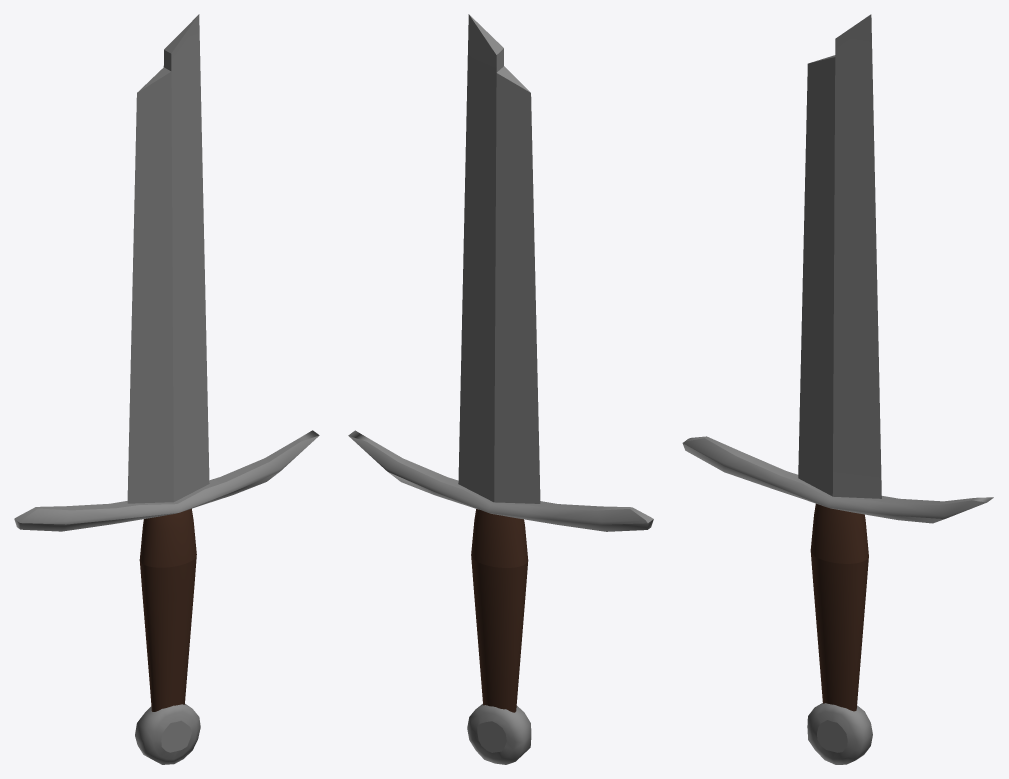
Rendered from broken_sword.gltf.
3 renders of one model, left to right at view 1: azimuth 30°, elevation 25°; view 2: azimuth 150°, elevation 25°; view 3: azimuth 330°, elevation 25°, orthographic. The views are drawn at different scales.
Visible parts, largest first — view 1: Cylinder; view 2: Cylinder; view 3: Cylinder.
Boxes of the visible parts, <box> form: Cylinder: <box>14,14,319,764</box>; Cylinder: <box>348,14,653,764</box>; Cylinder: <box>682,14,993,764</box>.
Bounding box in the file's own units: 0.1945 × 0.4593 × 0.0254.
1 material, 1 textured.
